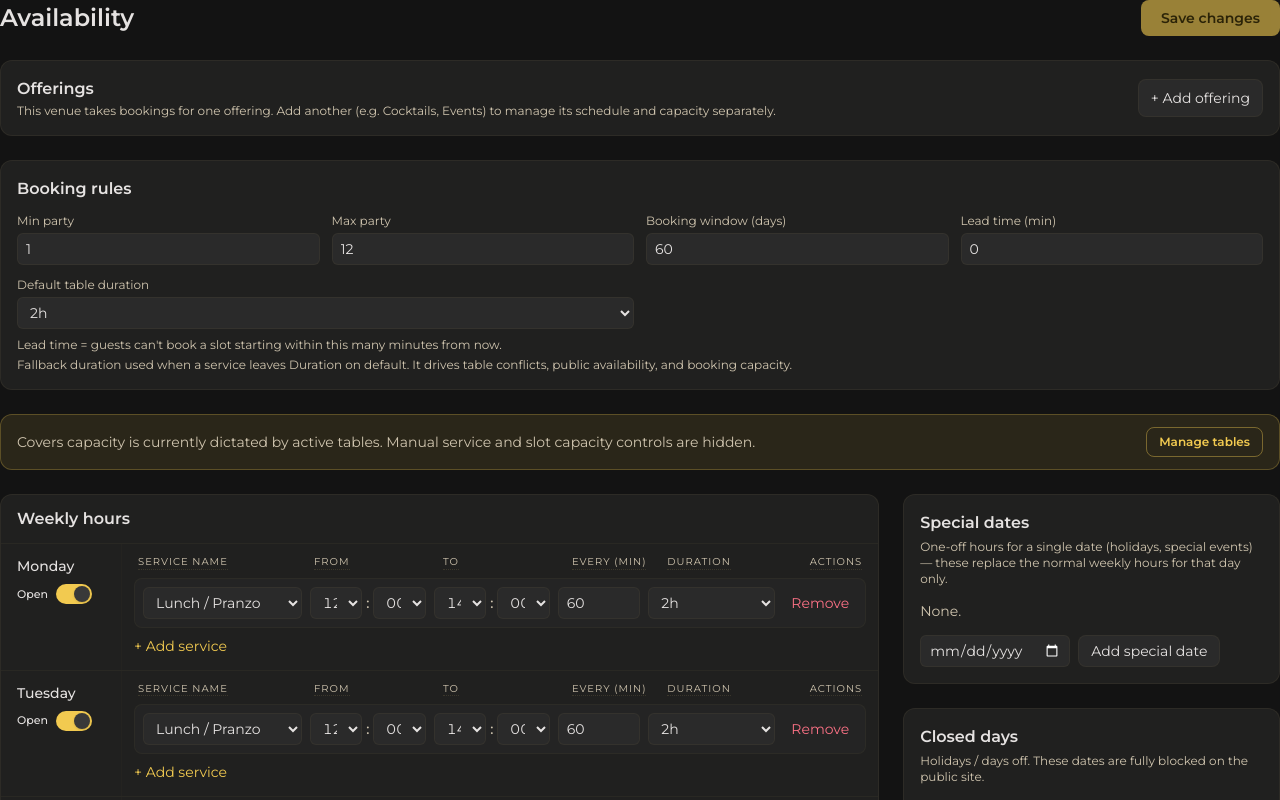
Availability — Special dates › adds a special date with a default service editor, then removes it
This screenshot has width=1280, height=800.
In the date field: (995, 651) [920,635,1070,667], type "2026-12-25"
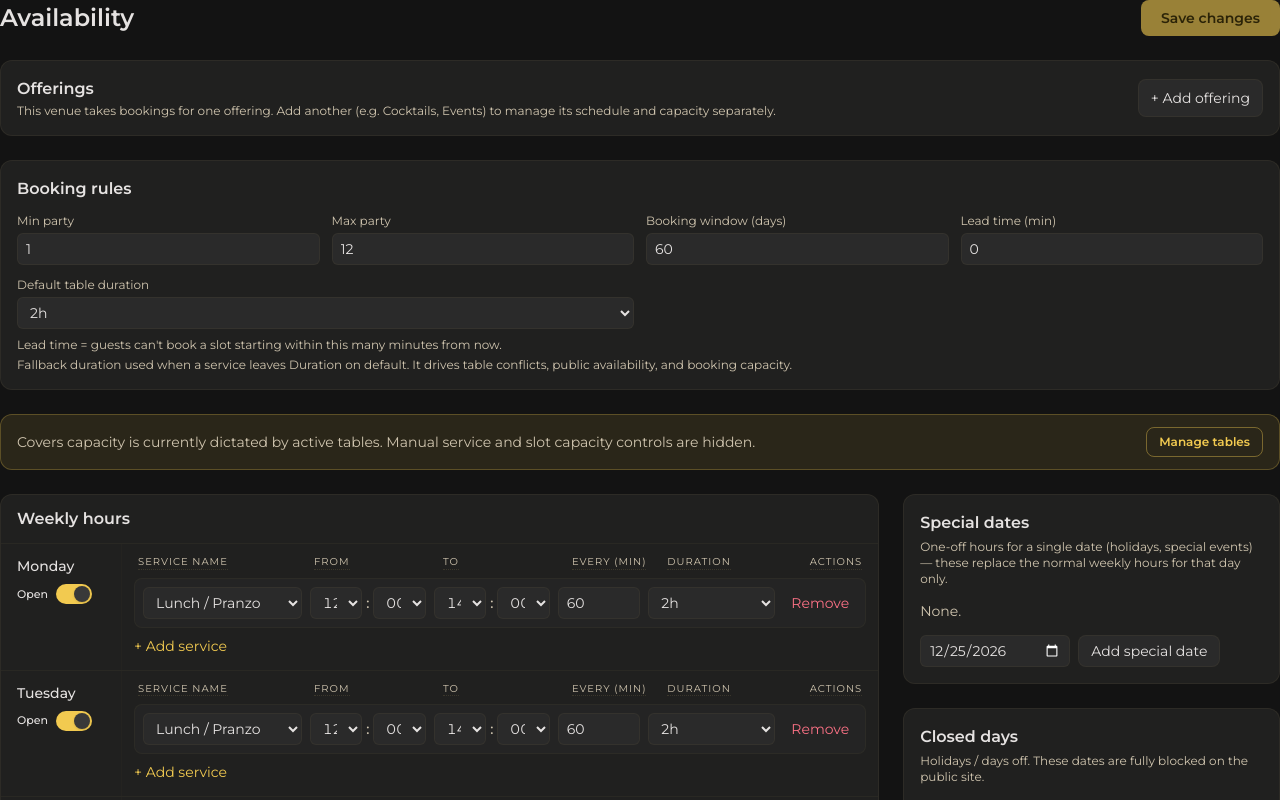
Click the button "Add special date": (1149, 651) [1078,635,1220,667]
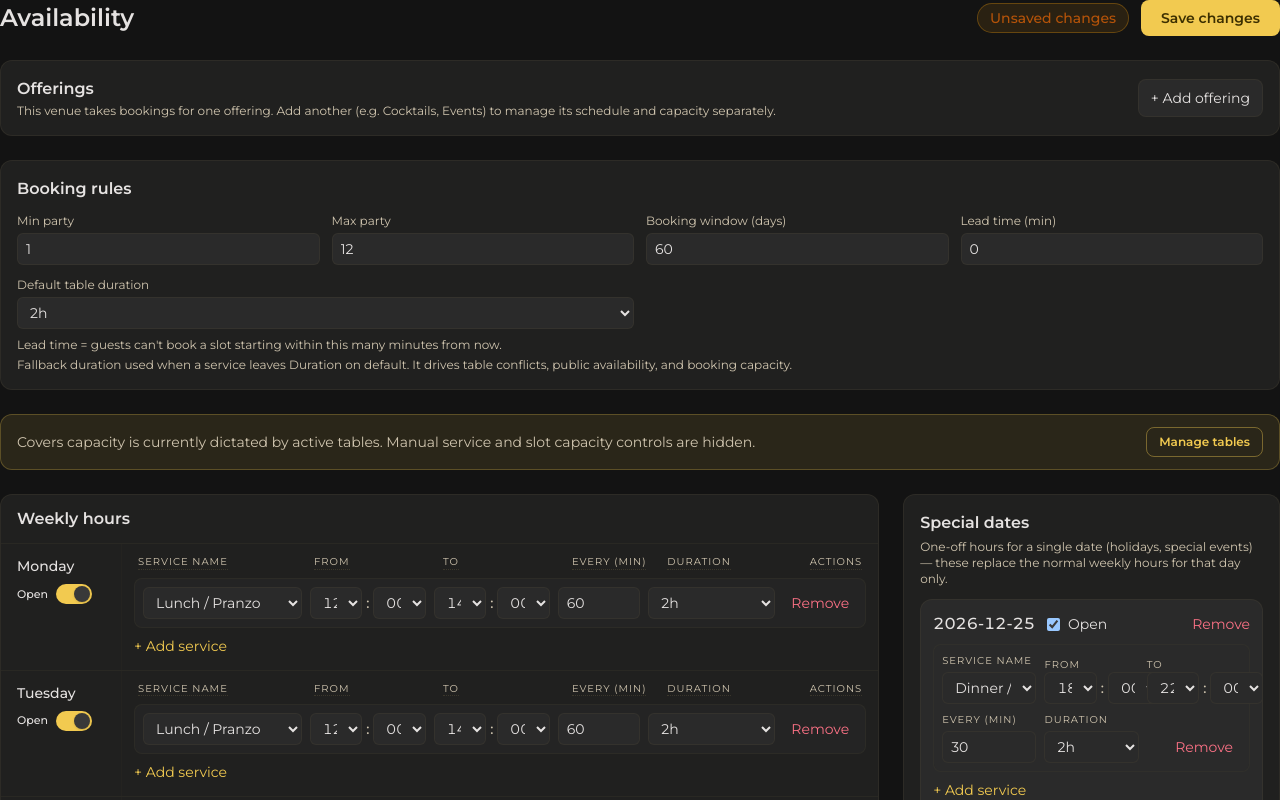
Expected: the text "2026-12-25" is shown, [933,612,1035,636]
Expected: the button "+ Add service" below "2026-12-25" is shown, [933,780,1026,799]
the card-level "Remove" is the first one in DOM order (before the service row's Remove)
Click the button "Remove" in the row of "2026-12-25": (1221, 624) [1192,614,1250,634]
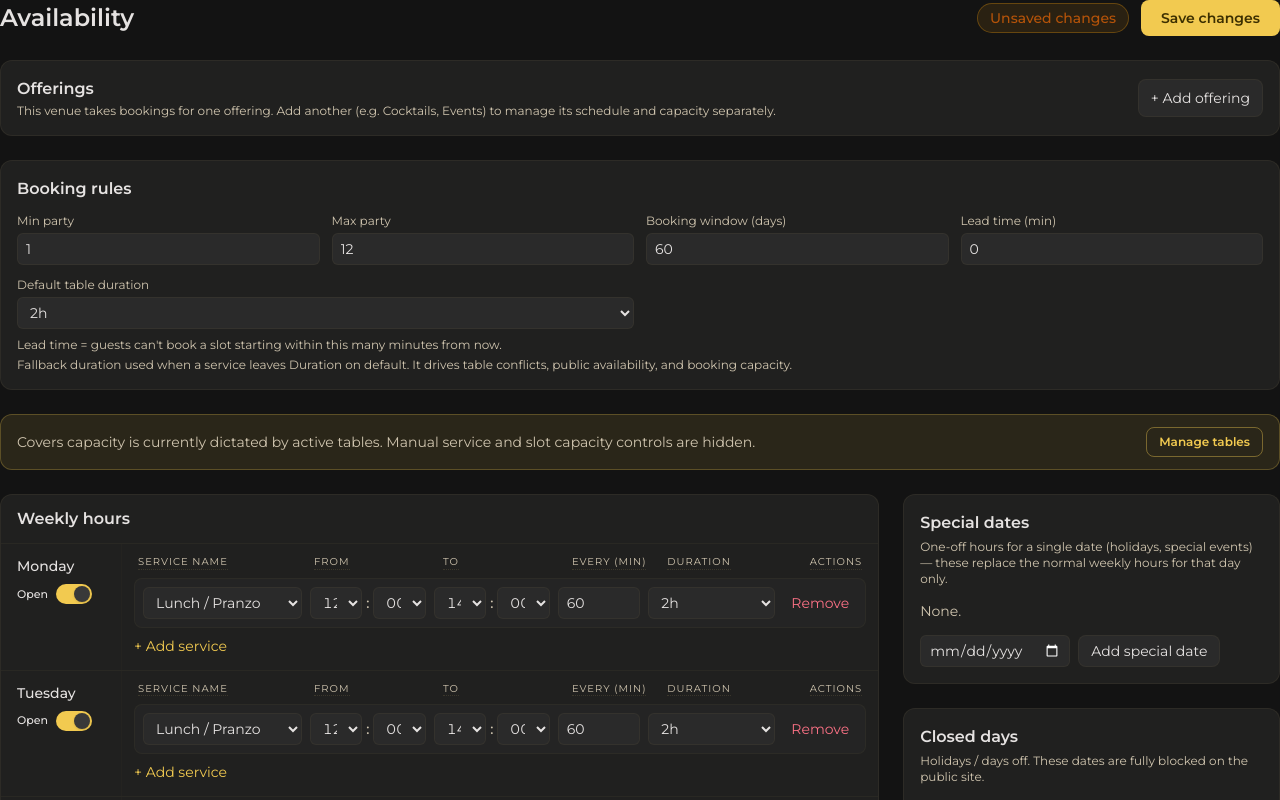
Expected: the text "2026-12-25" is gone
